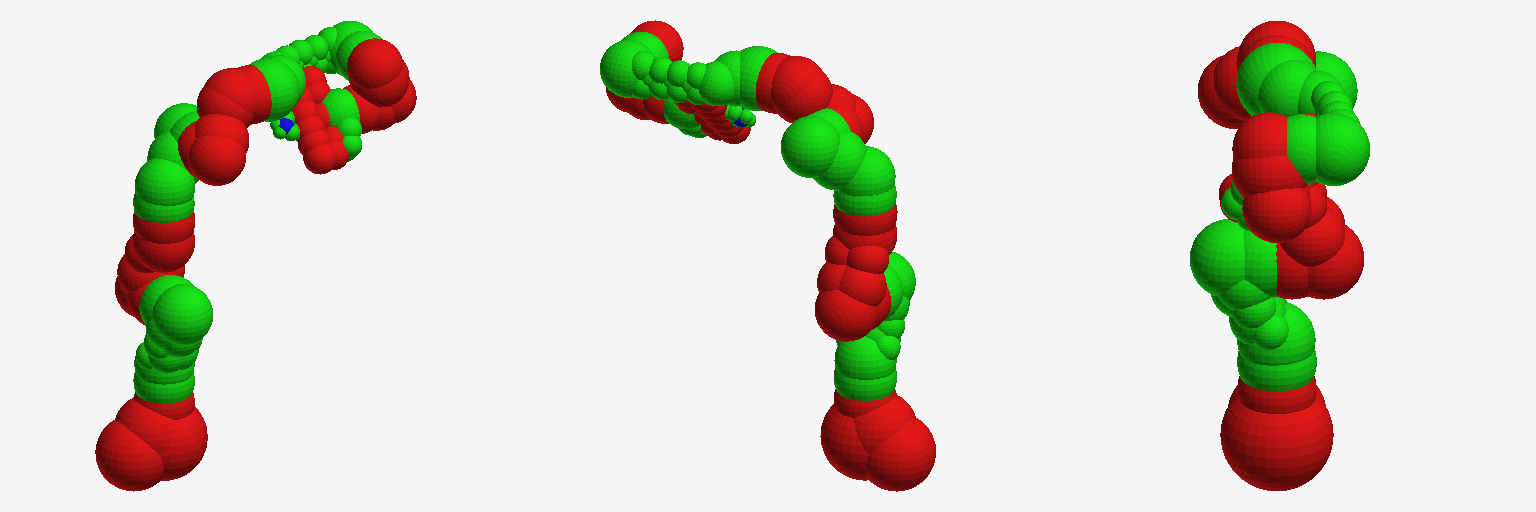
The robot description file, URDF, robot "panda":
<?xml version="1.0" encoding="utf-8"?>
<!-- =================================================================================== -->
<!-- |    This document was autogenerated by xacro from panda_arm_hand.urdf.xacro      | -->
<!-- |    EDITING THIS FILE BY HAND IS NOT RECOMMENDED                                 | -->
<!-- =================================================================================== -->
<robot name="panda">
  <material name="redtran">
    <color rgba=".9 .1 .1 0.3"/>
  </material>
  <material name="greentran">
    <color rgba=".1 .9 .1 0.3"/>
  </material>
  <material name="bluetran">
    <color rgba=".1 .1 .9 0.3"/>
  </material>
  <link name="panda_link0">
    <visual>
      <geometry>
        <mesh filename="package://franka_description/meshes/visual/link0.dae"/>
      </geometry>
    </visual>
    <collision>
      <geometry>
        <mesh filename="package://franka_description/meshes/collision/link0.stl"/>
      </geometry>
    </collision>
    <visual>
      <origin xyz="0 0 .117"/>
      <geometry>
        <sphere radius="0.06"/>
      </geometry>
      <material name="redtran"/>
    </visual>
    <visual>
      <origin xyz="0 0 .042"/>
      <geometry>
        <sphere radius="0.085"/>
      </geometry>
      <material name="redtran"/>
    </visual>
    <visual>
      <origin xyz="-.029 0 .061"/>
      <geometry>
        <sphere radius="0.075"/>
      </geometry>
      <material name="redtran"/>
    </visual>
    <visual>
      <origin xyz="-.068 0 .024"/>
      <geometry>
        <sphere radius="0.075"/>
      </geometry>
      <material name="redtran"/>
    </visual>
  </link>
  <link name="panda_link1">
    <visual>
      <geometry>
        <mesh filename="package://franka_description/meshes/visual/link1.dae"/>
      </geometry>
    </visual>
    <collision>
      <geometry>
        <mesh filename="package://franka_description/meshes/collision/link1.stl"/>
      </geometry>
    </collision>
    <visual>
      <origin xyz="0 -.071 0"/>
      <geometry>
        <sphere radius="0.06"/>
      </geometry>
      <material name="greentran"/>
    </visual>
    <visual>
      <origin xyz="0 -.024 0"/>
      <geometry>
        <sphere radius="0.061"/>
      </geometry>
      <material name="greentran"/>
    </visual>
    <visual>
      <origin xyz="0 -.001 -.134"/>
      <geometry>
        <sphere radius="0.059"/>
      </geometry>
      <material name="greentran"/>
    </visual>
    <visual>
      <origin xyz="0 0 -.17"/>
      <geometry>
        <sphere radius="0.06"/>
      </geometry>
      <material name="greentran"/>
    </visual>
    <visual>
      <origin xyz=".015 -.048 -.032"/>
      <geometry>
        <sphere radius="0.047"/>
      </geometry>
      <material name="greentran"/>
    </visual>
    <visual>
      <origin xyz="-.015 -.048 -.032"/>
      <geometry>
        <sphere radius="0.047"/>
      </geometry>
      <material name="greentran"/>
    </visual>
    <visual>
      <origin xyz="0 -.054 -.047"/>
      <geometry>
        <sphere radius="0.047"/>
      </geometry>
      <material name="greentran"/>
    </visual>
    <visual>
      <origin xyz=".026 -.035 -.069"/>
      <geometry>
        <sphere radius="0.035"/>
      </geometry>
      <material name="greentran"/>
    </visual>
    <visual>
      <origin xyz=".036 -.011 -.103"/>
      <geometry>
        <sphere radius="0.03"/>
      </geometry>
      <material name="greentran"/>
    </visual>
    <visual>
      <origin xyz="-.026 -.035 -.069"/>
      <geometry>
        <sphere radius="0.035"/>
      </geometry>
      <material name="greentran"/>
    </visual>
    <visual>
      <origin xyz="-.036 -.011 -.103"/>
      <geometry>
        <sphere radius="0.03"/>
      </geometry>
      <material name="greentran"/>
    </visual>
    <visual>
      <origin xyz=".011 -.028 -.093"/>
      <geometry>
        <sphere radius="0.044"/>
      </geometry>
      <material name="greentran"/>
    </visual>
    <visual>
      <origin xyz="-.011 -.028 -.093"/>
      <geometry>
        <sphere radius="0.044"/>
      </geometry>
      <material name="greentran"/>
    </visual>
  </link>
  <joint name="panda_joint1" type="revolute">
    <safety_controller k_position="100.0" k_velocity="40.0" soft_lower_limit="-2.8973" soft_upper_limit="2.8973"/>
    <origin rpy="0 0 0" xyz="0 0 0.333"/>
    <parent link="panda_link0"/>
    <child link="panda_link1"/>
    <axis xyz="0 0 1"/>
    <limit effort="87" lower="-2.8973" upper="2.8973" velocity="2.1750"/>
  </joint>
  <link name="panda_link2">
    <visual>
      <geometry>
        <mesh filename="package://franka_description/meshes/visual/link2.dae"/>
      </geometry>
    </visual>
    <collision>
      <geometry>
        <mesh filename="package://franka_description/meshes/collision/link2.stl"/>
      </geometry>
    </collision>
    <visual>
      <origin xyz="0 -.128 .001"/>
      <geometry>
        <sphere radius="0.061"/>
      </geometry>
      <material name="redtran"/>
    </visual>
    <visual>
      <origin xyz="0 0 .023"/>
      <geometry>
        <sphere radius="0.061"/>
      </geometry>
      <material name="redtran"/>
    </visual>
    <visual>
      <origin xyz="-.016 -.045 .051"/>
      <geometry>
        <sphere radius="0.052"/>
      </geometry>
      <material name="redtran"/>
    </visual>
    <visual>
      <origin xyz=".021 -.097 .032"/>
      <geometry>
        <sphere radius="0.043"/>
      </geometry>
      <material name="redtran"/>
    </visual>
    <visual>
      <origin xyz="0 0 .07"/>
      <geometry>
        <sphere radius="0.061"/>
      </geometry>
      <material name="redtran"/>
    </visual>
    <visual>
      <origin xyz="0 -.173 0"/>
      <geometry>
        <sphere radius="0.061"/>
      </geometry>
      <material name="redtran"/>
    </visual>
    <visual>
      <origin xyz=".016 -.045 .051"/>
      <geometry>
        <sphere radius="0.052"/>
      </geometry>
      <material name="redtran"/>
    </visual>
    <visual>
      <origin xyz="-.021 -.097 .032"/>
      <geometry>
        <sphere radius="0.043"/>
      </geometry>
      <material name="redtran"/>
    </visual>
  </link>
  <joint name="panda_joint2" type="revolute">
    <safety_controller k_position="100.0" k_velocity="40.0" soft_lower_limit="-1.7628" soft_upper_limit="1.7628"/>
    <origin rpy="-1.57079632679 0 0" xyz="0 0 0"/>
    <parent link="panda_link1"/>
    <child link="panda_link2"/>
    <axis xyz="0 0 1"/>
    <limit effort="87" lower="-1.7628" upper="1.7628" velocity="2.1750"/>
  </joint>
  <link name="panda_link3">
    <visual>
      <geometry>
        <mesh filename="package://franka_description/meshes/visual/link3.dae"/>
      </geometry>
    </visual>
    <collision>
      <geometry>
        <mesh filename="package://franka_description/meshes/collision/link3.stl"/>
      </geometry>
    </collision>
    <visual>
      <origin xyz=".045 .026 -.032"/>
      <geometry>
        <sphere radius="0.059"/>
      </geometry>
      <material name="greentran"/>
    </visual>
    <visual>
      <origin xyz=".084 .017 -.001"/>
      <geometry>
        <sphere radius="0.06"/>
      </geometry>
      <material name="greentran"/>
    </visual>
    <visual>
      <origin xyz=".081 .062 0"/>
      <geometry>
        <sphere radius="0.059"/>
      </geometry>
      <material name="greentran"/>
    </visual>
    <visual>
      <origin xyz="0 .001 -.105"/>
      <geometry>
        <sphere radius="0.06"/>
      </geometry>
      <material name="greentran"/>
    </visual>
    <visual>
      <origin xyz=".002 0 -.069"/>
      <geometry>
        <sphere radius="0.059"/>
      </geometry>
      <material name="greentran"/>
    </visual>
  </link>
  <joint name="panda_joint3" type="revolute">
    <safety_controller k_position="100.0" k_velocity="40.0" soft_lower_limit="-2.8973" soft_upper_limit="2.8973"/>
    <origin rpy="1.57079632679 0 0" xyz="0 -0.316 0"/>
    <parent link="panda_link2"/>
    <child link="panda_link3"/>
    <axis xyz="0 0 1"/>
    <limit effort="87" lower="-2.8973" upper="2.8973" velocity="2.1750"/>
  </joint>
  <link name="panda_link4">
    <visual>
      <geometry>
        <mesh filename="package://franka_description/meshes/visual/link4.dae"/>
      </geometry>
    </visual>
    <collision>
      <geometry>
        <mesh filename="package://franka_description/meshes/collision/link4.stl"/>
      </geometry>
    </collision>
    <visual>
      <origin xyz="0 0 .062"/>
      <geometry>
        <sphere radius="0.057"/>
      </geometry>
      <material name="redtran"/>
    </visual>
    <visual>
      <origin xyz="0 0 .018"/>
      <geometry>
        <sphere radius="0.059"/>
      </geometry>
      <material name="redtran"/>
    </visual>
    <visual>
      <origin xyz="-.022 .019 .04"/>
      <geometry>
        <sphere radius="0.058"/>
      </geometry>
      <material name="redtran"/>
    </visual>
    <visual>
      <origin xyz="-.082 .111 0"/>
      <geometry>
        <sphere radius="0.058"/>
      </geometry>
      <material name="redtran"/>
    </visual>
    <visual>
      <origin xyz="-.084 .069 0"/>
      <geometry>
        <sphere radius="0.059"/>
      </geometry>
      <material name="redtran"/>
    </visual>
    <visual>
      <origin xyz="-.071 .057 .002"/>
      <geometry>
        <sphere radius="0.059"/>
      </geometry>
      <material name="redtran"/>
    </visual>
  </link>
  <joint name="panda_joint4" type="revolute">
    <safety_controller k_position="100.0" k_velocity="40.0" soft_lower_limit="-3.0718" soft_upper_limit="-0.0698"/>
    <origin rpy="1.57079632679 0 0" xyz="0.0825 0 0"/>
    <parent link="panda_link3"/>
    <child link="panda_link4"/>
    <axis xyz="0 0 1"/>
    <limit effort="87" lower="-3.0718" upper="-0.0698" velocity="2.1750"/>
  </joint>
  <link name="panda_link5">
    <visual>
      <geometry>
        <mesh filename="package://franka_description/meshes/visual/link5.dae"/>
      </geometry>
    </visual>
    <collision>
      <geometry>
        <mesh filename="package://franka_description/meshes/collision/link5.stl"/>
      </geometry>
    </collision>
    <visual>
      <origin xyz="0 .021 -.197"/>
      <geometry>
        <sphere radius="0.053"/>
      </geometry>
      <material name="greentran"/>
    </visual>
    <visual>
      <origin xyz="-.018 .096 -.036"/>
      <geometry>
        <sphere radius="0.03"/>
      </geometry>
      <material name="greentran"/>
    </visual>
    <visual>
      <origin xyz="0 .085 0"/>
      <geometry>
        <sphere radius="0.055"/>
      </geometry>
      <material name="greentran"/>
    </visual>
    <visual>
      <origin xyz=".018 .096 -.036"/>
      <geometry>
        <sphere radius="0.03"/>
      </geometry>
      <material name="greentran"/>
    </visual>
    <visual>
      <origin xyz="0 .037 0"/>
      <geometry>
        <sphere radius="0.053"/>
      </geometry>
      <material name="greentran"/>
    </visual>
    <visual>
      <origin xyz="0 .001 -.233"/>
      <geometry>
        <sphere radius="0.062"/>
      </geometry>
      <material name="greentran"/>
    </visual>
    <visual>
      <origin xyz="0 .059 -.178"/>
      <geometry>
        <sphere radius="0.043"/>
      </geometry>
      <material name="greentran"/>
    </visual>
    <visual>
      <origin xyz=".015 .077 -.147"/>
      <geometry>
        <sphere radius="0.027"/>
      </geometry>
      <material name="greentran"/>
    </visual>
    <visual>
      <origin xyz="-.015 .091 -.076"/>
      <geometry>
        <sphere radius="0.027"/>
      </geometry>
      <material name="greentran"/>
    </visual>
    <visual>
      <origin xyz="0 .094 -.053"/>
      <geometry>
        <sphere radius="0.024"/>
      </geometry>
      <material name="greentran"/>
    </visual>
    <visual>
      <origin xyz=".015 .087 -.112"/>
      <geometry>
        <sphere radius="0.027"/>
      </geometry>
      <material name="greentran"/>
    </visual>
    <visual>
      <origin xyz="-.015 .087 -.112"/>
      <geometry>
        <sphere radius="0.027"/>
      </geometry>
      <material name="greentran"/>
    </visual>
    <visual>
      <origin xyz=".015 .091 -.076"/>
      <geometry>
        <sphere radius="0.027"/>
      </geometry>
      <material name="greentran"/>
    </visual>
    <visual>
      <origin xyz="-.015 .077 -.147"/>
      <geometry>
        <sphere radius="0.027"/>
      </geometry>
      <material name="greentran"/>
    </visual>
    <visual>
      <origin xyz="0 .081 -.132"/>
      <geometry>
        <sphere radius="0.024"/>
      </geometry>
      <material name="greentran"/>
    </visual>
    <visual>
      <origin xyz="0 .087 -.092"/>
      <geometry>
        <sphere radius="0.022"/>
      </geometry>
      <material name="greentran"/>
    </visual>
  </link>
  <joint name="panda_joint5" type="revolute">
    <safety_controller k_position="100.0" k_velocity="40.0" soft_lower_limit="-2.8973" soft_upper_limit="2.8973"/>
    <origin rpy="-1.57079632679 0 0" xyz="-0.0825 0.384 0"/>
    <parent link="panda_link4"/>
    <child link="panda_link5"/>
    <axis xyz="0 0 1"/>
    <limit effort="12" lower="-2.8973" upper="2.8973" velocity="2.6100"/>
  </joint>
  <link name="panda_link6">
    <visual>
      <geometry>
        <mesh filename="package://franka_description/meshes/visual/link6.dae"/>
      </geometry>
    </visual>
    <collision>
      <geometry>
        <mesh filename="package://franka_description/meshes/collision/link6.stl"/>
      </geometry>
    </collision>
    <visual>
      <origin xyz=".087 -.03 .0"/>
      <geometry>
        <sphere radius="0.05"/>
      </geometry>
      <material name="redtran"/>
    </visual>
    <visual>
      <origin xyz=".028 .011 .009"/>
      <geometry>
        <sphere radius="0.059"/>
      </geometry>
      <material name="redtran"/>
    </visual>
    <visual>
      <origin xyz="-.001 0 .012"/>
      <geometry>
        <sphere radius="0.055"/>
      </geometry>
      <material name="redtran"/>
    </visual>
    <visual>
      <origin xyz=".079 .04 0"/>
      <geometry>
        <sphere radius="0.052"/>
      </geometry>
      <material name="redtran"/>
    </visual>
    <visual>
      <origin xyz=".09 .01 .0"/>
      <geometry>
        <sphere radius="0.049"/>
      </geometry>
      <material name="redtran"/>
    </visual>
  </link>
  <joint name="panda_joint6" type="revolute">
    <safety_controller k_position="100.0" k_velocity="40.0" soft_lower_limit="-0.0175" soft_upper_limit="3.7525"/>
    <origin rpy="1.57079632679 0 0" xyz="0 0 0"/>
    <parent link="panda_link5"/>
    <child link="panda_link6"/>
    <axis xyz="0 0 1"/>
    <limit effort="12" lower="-0.0175" upper="3.7525" velocity="2.6100"/>
  </joint>
  <link name="panda_link7">
    <visual>
      <geometry>
        <mesh filename="package://franka_description/meshes/visual/link7.dae"/>
      </geometry>
    </visual>
    <collision>
      <geometry>
        <mesh filename="package://franka_description/meshes/collision/link7.stl"/>
      </geometry>
    </collision>
    <visual>
      <origin xyz=".0 .0 .075"/>
      <geometry>
        <sphere radius="0.05"/>
      </geometry>
      <material name="greentran"/>
    </visual>
    <visual>
      <origin xyz=".016 .042 .079"/>
      <geometry>
        <sphere radius="0.028"/>
      </geometry>
      <material name="greentran"/>
    </visual>
    <visual>
      <origin xyz=".041 .012 .079"/>
      <geometry>
        <sphere radius="0.028"/>
      </geometry>
      <material name="greentran"/>
    </visual>
    <visual>
      <origin xyz=".04 .058 .085"/>
      <geometry>
        <sphere radius="0.026"/>
      </geometry>
      <material name="greentran"/>
    </visual>
    <visual>
      <origin xyz=".058 .037 .083"/>
      <geometry>
        <sphere radius="0.026"/>
      </geometry>
      <material name="greentran"/>
    </visual>
  </link>
  <joint name="panda_joint7" type="revolute">
    <safety_controller k_position="100.0" k_velocity="40.0" soft_lower_limit="-2.8973" soft_upper_limit="2.8973"/>
    <origin rpy="1.57079632679 0 0" xyz="0.088 0 0"/>
    <parent link="panda_link6"/>
    <child link="panda_link7"/>
    <axis xyz="0 0 1"/>
    <limit effort="12" lower="-2.8973" upper="2.8973" velocity="2.6100"/>
  </joint>
  <link name="panda_link8"/>
  <joint name="panda_joint8" type="fixed">
    <origin rpy="0 0 0" xyz="0 0 0.107"/>
    <parent link="panda_link7"/>
    <child link="panda_link8"/>
    <axis xyz="0 0 0"/>
  </joint>
  <joint name="panda_hand_joint" type="fixed">
    <parent link="panda_link8"/>
    <child link="panda_hand"/>
    <origin rpy="0 0 -0.785398163397" xyz="0 0 0"/>
  </joint>
  <link name="panda_hand">
    <visual>
      <geometry>
        <mesh filename="package://franka_description/meshes/visual/hand.dae"/>
      </geometry>
    </visual>
    <visual>
      <origin xyz="0 -.077 .041"/>
      <geometry>
        <sphere radius="0.033"/>
      </geometry>
      <material name="redtran"/>
    </visual>
    <visual>
      <origin xyz="0 .075 .012"/>
      <geometry>
        <sphere radius="0.033"/>
      </geometry>
      <material name="redtran"/>
    </visual>
    <visual>
      <origin xyz="0 .077 .041"/>
      <geometry>
        <sphere radius="0.033"/>
      </geometry>
      <material name="redtran"/>
    </visual>
    <visual>
      <origin xyz="0 -.05 .002"/>
      <geometry>
        <sphere radius="0.033"/>
      </geometry>
      <material name="redtran"/>
    </visual>
    <visual>
      <origin xyz="0 -.046 .041"/>
      <geometry>
        <sphere radius="0.033"/>
      </geometry>
      <material name="redtran"/>
    </visual>
    <visual>
      <origin xyz="0 .046 .041"/>
      <geometry>
        <sphere radius="0.033"/>
      </geometry>
      <material name="redtran"/>
    </visual>
    <visual>
      <origin xyz="0 .016 .041"/>
      <geometry>
        <sphere radius="0.033"/>
      </geometry>
      <material name="redtran"/>
    </visual>
    <visual>
      <origin xyz="0 -.016 .041"/>
      <geometry>
        <sphere radius="0.033"/>
      </geometry>
      <material name="redtran"/>
    </visual>
    <visual>
      <origin xyz="0 -.075 .002"/>
      <geometry>
        <sphere radius="0.033"/>
      </geometry>
      <material name="redtran"/>
    </visual>
    <visual>
      <origin xyz="0 .051 .003"/>
      <geometry>
        <sphere radius="0.033"/>
      </geometry>
      <material name="redtran"/>
    </visual>
    <visual>
      <origin xyz="0 0 .003"/>
      <geometry>
        <sphere radius="0.033"/>
      </geometry>
      <material name="redtran"/>
    </visual>
  </link>
  <link name="panda_leftfinger">
    <visual>
      <geometry>
        <mesh filename="package://franka_description/meshes/visual/finger.dae"/>
      </geometry>
    </visual>
    <visual>
      <origin xyz="0 .014 .022"/>
      <geometry>
        <sphere radius="0.017"/>
      </geometry>
      <material name="greentran"/>
    </visual>
    <visual>
      <origin xyz="0 .015 .005"/>
      <geometry>
        <sphere radius="0.018"/>
      </geometry>
      <material name="greentran"/>
    </visual>
    <visual>
      <origin xyz="0 .008 .044"/>
      <geometry>
        <sphere radius="0.014"/>
      </geometry>
      <material name="greentran"/>
    </visual>
  </link>
  <link name="panda_rightfinger">
    <visual>
      <origin rpy="0 0 3.14159265359" xyz="0 0 0"/>
      <geometry>
        <mesh filename="package://franka_description/meshes/visual/finger.dae"/>
      </geometry>
    </visual>
    <visual>
      <origin xyz="0 -.014 .022"/>
      <geometry>
        <sphere radius="0.017"/>
      </geometry>
      <material name="greentran"/>
    </visual>
    <visual>
      <origin xyz="0 -.015 .005"/>
      <geometry>
        <sphere radius="0.018"/>
      </geometry>
      <material name="greentran"/>
    </visual>
    <visual>
      <origin xyz="0 -.008 .044"/>
      <geometry>
        <sphere radius="0.014"/>
      </geometry>
      <material name="greentran"/>
    </visual>
  </link>
  <link name="panda_hand_center">
    <visual>
      <origin xyz="0 0 0"/>
      <geometry>
        <sphere radius="0.02"/>
      </geometry>
      <material name="bluetran"/>
    </visual>
  </link>
  <joint name="panda_finger_joint1" type="prismatic">
    <parent link="panda_hand"/>
    <child link="panda_leftfinger"/>
    <origin rpy="0 0 0" xyz="0 0 0.0584"/>
    <axis xyz="0 1 0"/>
    <limit effort="20" lower="0.0" upper="0.04" velocity="0.2"/>
  </joint>
  <joint name="panda_finger_joint2" type="prismatic">
    <parent link="panda_hand"/>
    <child link="panda_rightfinger"/>
    <origin rpy="0 0 0" xyz="0 0 0.0584"/>
    <axis xyz="0 -1 0"/>
    <limit effort="20" lower="0.0" upper="0.04" velocity="0.2"/>
    <mimic joint="panda_finger_joint1"/>
  </joint>
  <joint name="panda_hand_center_joint" type="fixed">
    <parent link="panda_hand"/>
    <child link="panda_hand_center"/>
    <origin rpy="0 0 0" xyz="0 0 0.09"/>
  </joint>
</robot>

--- Facts derived from the render (not from the file) ---
Views: 3 orthographic renders of the robot side by side, from view 1: azimuth 30°, elevation 25°; view 2: azimuth 150°, elevation 25°; view 3: azimuth 270°, elevation 25°.
Model panda with 13 links and 12 joints (7 revolute, 2 prismatic, 3 fixed), rooted at panda_link0, posed all joints at 0 but 1 set to mid-range because 0 is outside their limits (panda_joint4 = -1.57).
Links seen in each view (by area): view 1: panda_link0, panda_link1, panda_link4, panda_link3, panda_link5, panda_link6, panda_link2, panda_hand, panda_link7; view 2: panda_link0, panda_link5, panda_link2, panda_link3, panda_link1, panda_link4, panda_link6, panda_hand, panda_link7; view 3: panda_link1, panda_link5, panda_link0, panda_link6, panda_link2, panda_link4, panda_link3, panda_link7.
Link boxes in pixels (x1,y1,x2,y2): panda_link0: (95, 392, 207, 491); panda_link1: (133, 275, 212, 402); panda_link4: (178, 65, 271, 185); panda_link3: (133, 103, 199, 222); panda_link5: (249, 21, 381, 121); panda_link6: (343, 38, 416, 133); panda_link2: (115, 211, 194, 325); panda_hand: (292, 66, 348, 174); panda_link7: (321, 88, 361, 161); panda_link0: (820, 389, 935, 491); panda_link5: (600, 32, 777, 110); panda_link2: (815, 204, 897, 341); panda_link3: (781, 108, 896, 215); panda_link1: (834, 252, 915, 400); panda_link4: (756, 53, 873, 143); panda_link6: (606, 20, 683, 123); panda_hand: (674, 101, 750, 143); panda_link7: (664, 98, 707, 137); panda_link1: (1190, 219, 1316, 390); panda_link5: (1236, 43, 1369, 185); panda_link0: (1220, 376, 1333, 490); panda_link6: (1232, 112, 1311, 242); panda_link2: (1276, 182, 1363, 299); panda_link4: (1198, 21, 1315, 128); panda_link3: (1316, 51, 1357, 107); panda_link7: (1221, 181, 1309, 231).
Size in the robot's own frame: 0.7015 by 0.271 by 0.8445 metres.
0 mesh visuals loaded from 10 distinct referenced files (none loaded); not drawn: 11 (reference not matched to a file when rendering).
